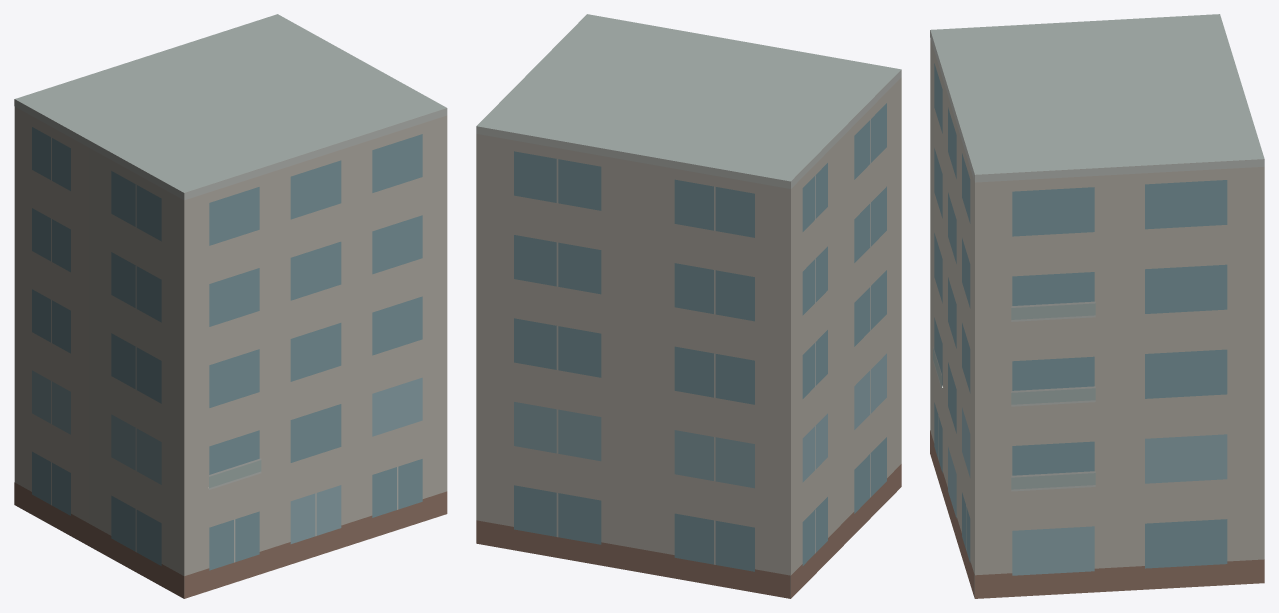
File: survey-upis-32665834.glb
3 views of the same model, side by side, from view 1: azimuth 30°, elevation 25°; view 2: azimuth 150°, elevation 25°; view 3: azimuth 270°, elevation 25° (orthographic). The views are drawn at different scales.
Visible parts, largest first — view 1: survey-upis-32665834.tmp; view 2: survey-upis-32665834.tmp; view 3: survey-upis-32665834.tmp.
Boxes of the visible parts, x1,y1,x2,y2 form: survey-upis-32665834.tmp: (14,14,447,598); survey-upis-32665834.tmp: (476,14,901,598); survey-upis-32665834.tmp: (930,14,1264,598).
Size of the model in its own units: 10.91 by 13.4 by 9.59.
